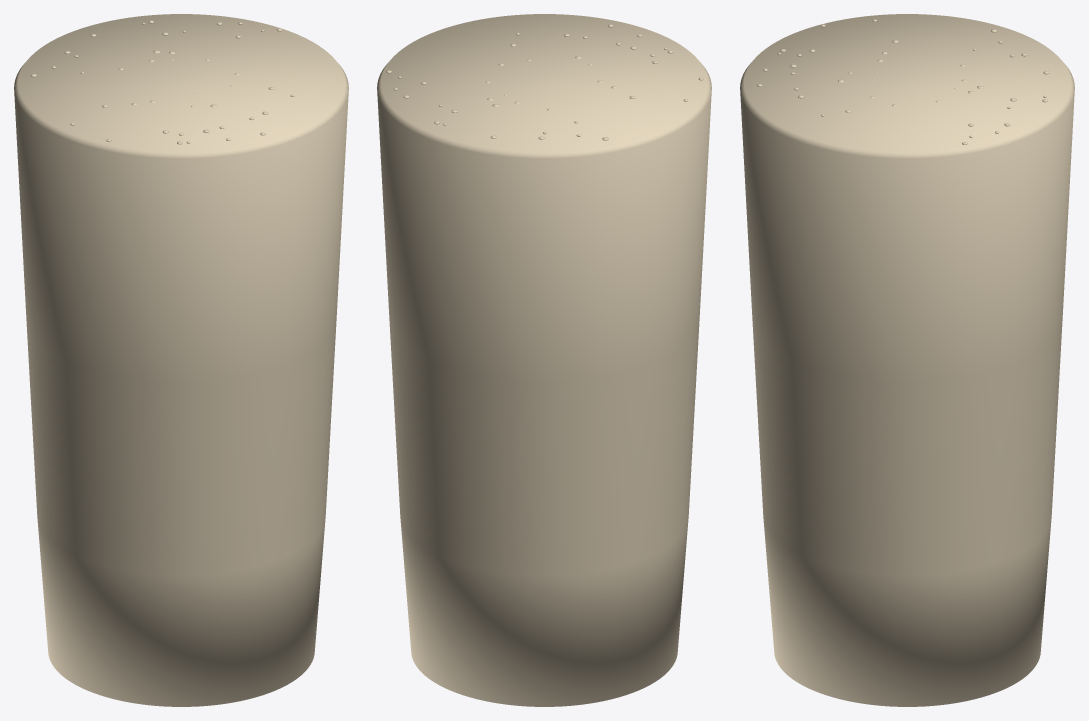
The model's file is sweet-shake-vanilla.glb.
3 views of the same model, side by side, from view 1: azimuth 30°, elevation 25°; view 2: azimuth 150°, elevation 25°; view 3: azimuth 270°, elevation 25° (orthographic).
Parts seen in each view (by area): view 1: vanilla shake; view 2: vanilla shake; view 3: vanilla shake.
Boxes of the visible parts, x1=… form: vanilla shake: x1=14, y1=14, x2=348, y2=706; vanilla shake: x1=377, y1=14, x2=711, y2=706; vanilla shake: x1=740, y1=14, x2=1074, y2=706.
Size of the model in its own units: 1.23 by 2.31 by 1.23.
